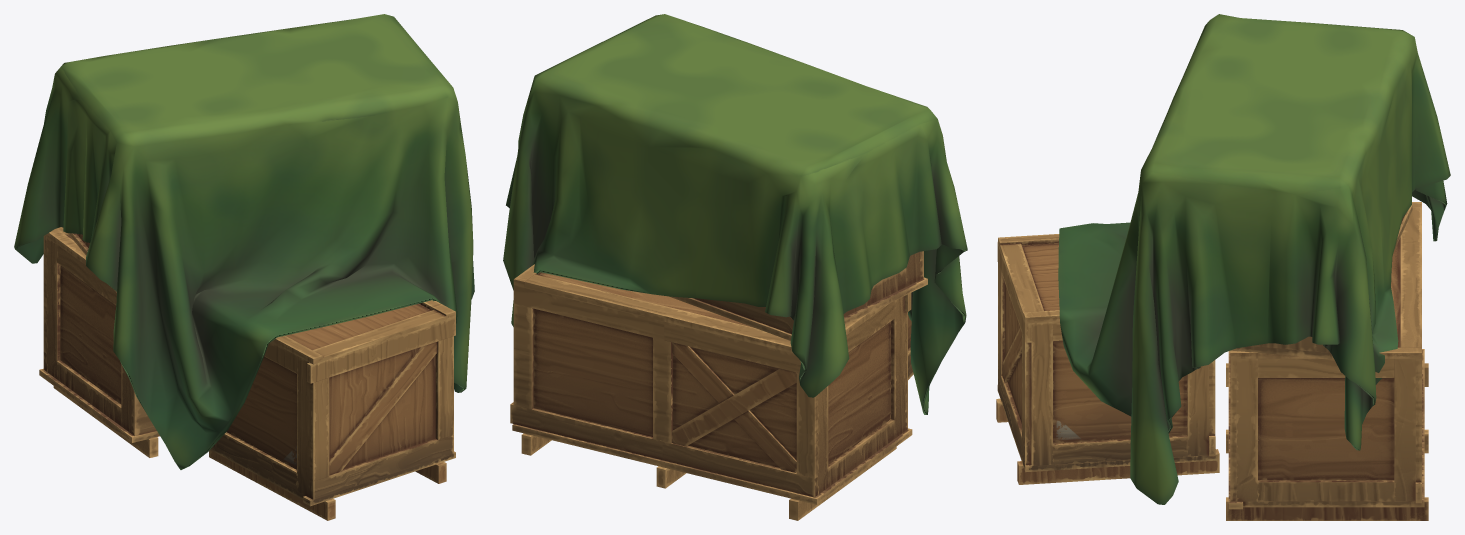
Rendered from SM_PROP_MULTICAIXAS.fbx.
The picture shows the model from 3 angles, left to right: view 1: azimuth 30°, elevation 25°; view 2: azimuth 150°, elevation 25°; view 3: azimuth 270°, elevation 25°; orthographic projection. The views are drawn at different scales.
Visible parts, largest first — view 1: CaixasComLona; view 2: CaixasComLona; view 3: CaixasComLona.
Boxes of the visible parts, x1=… form: CaixasComLona: x1=14, y1=14, x2=474, y2=520; CaixasComLona: x1=503, y1=14, x2=967, y2=520; CaixasComLona: x1=996, y1=14, x2=1450, y2=520.
Bounding box in the file's own units: 2.26 × 1.83 × 2.13.
